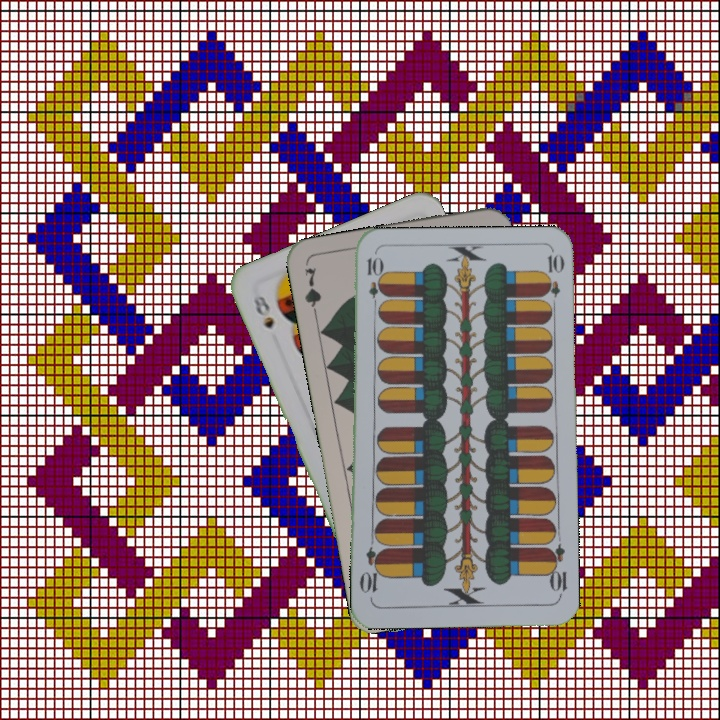E10: (543, 541, 569, 600), (363, 253, 382, 312)
G7: (300, 263, 324, 322)
S8: (249, 290, 277, 332)
